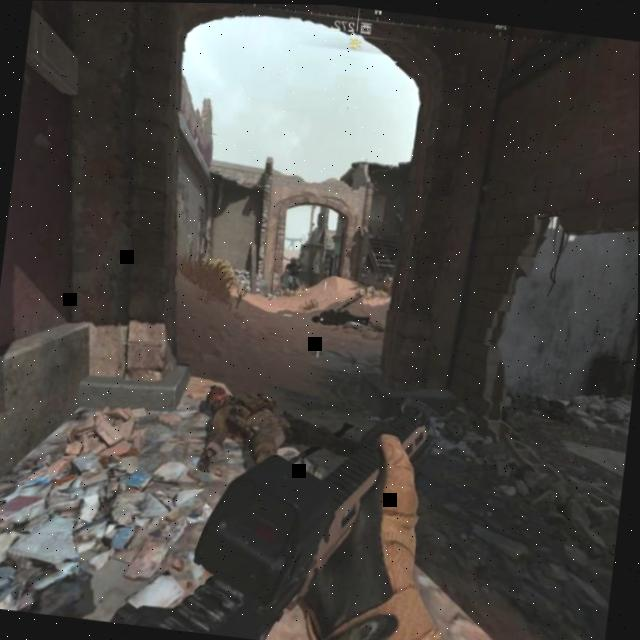MW2_body: (282, 255, 304, 292)
